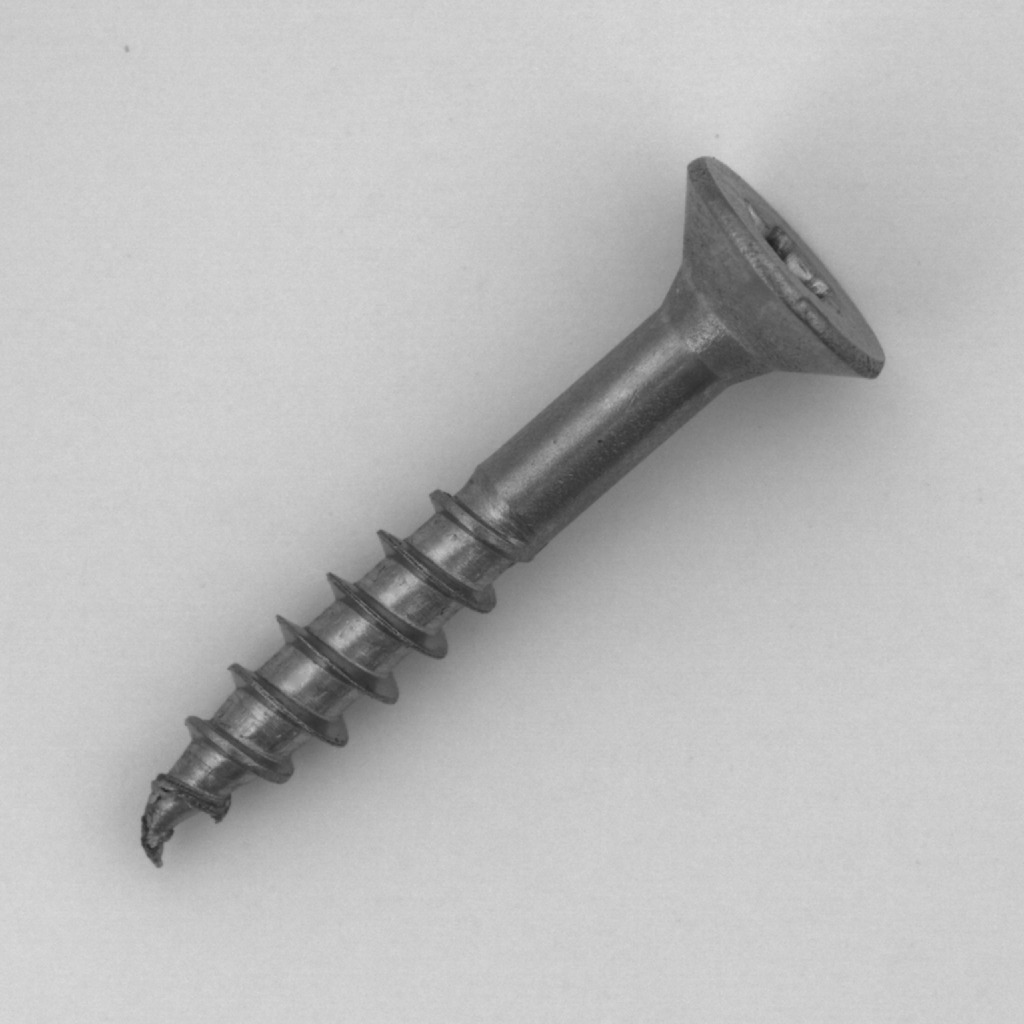manipulated_front: (100, 754, 251, 905)
